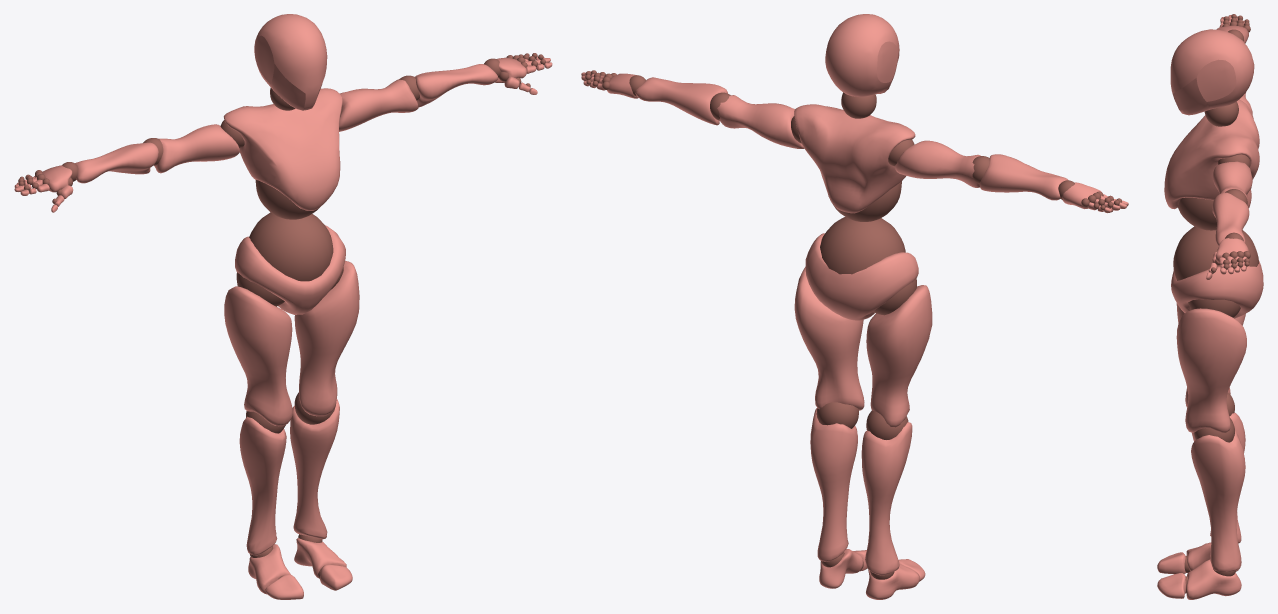
3 views of the same model, side by side, from view 1: azimuth 30°, elevation 25°; view 2: azimuth 150°, elevation 25°; view 3: azimuth 270°, elevation 25° (orthographic). The views are drawn at different scales.
Parts seen in each view (by area): view 1: Beta_Surface; view 2: Beta_Surface; view 3: Beta_Surface.
Boxes of the visible parts, left/top/right/bottom form: Beta_Surface: left=14, top=14, right=552, bottom=599; Beta_Surface: left=581, top=14, right=1128, bottom=599; Beta_Surface: left=1157, top=14, right=1263, bottom=599.
Size of the model in its own units: 181 by 180 by 31.48.
